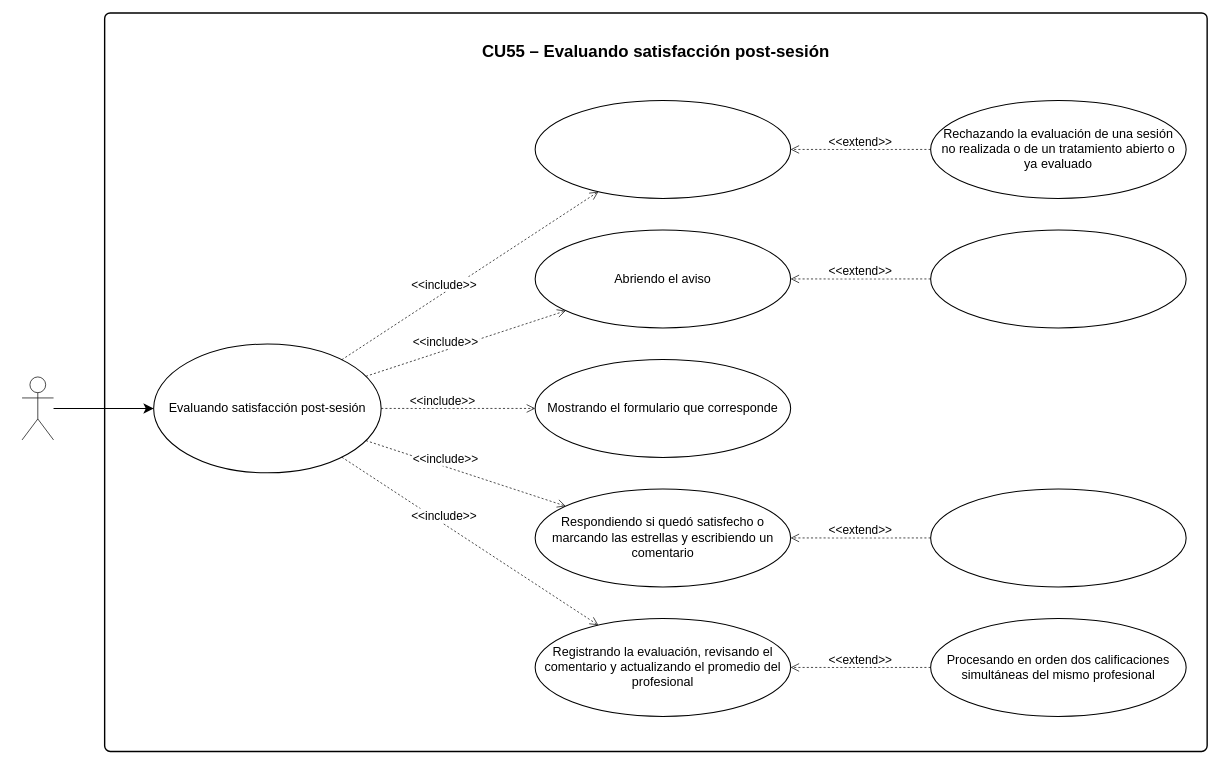
Image size: 1220x764. Some labels were removed from this diagram. Each missing label, with the centre of its shape:
Avisando al paciente que evalúe su sesión o su tratamiento: the point at 662,149
Manteniendo la evaluación pendiente en sus citas al descartar el aviso: the point at 1058,278
Paciente: the point at 37,408
Registrando solo la respuesta o la nota por comentario vacío o no permitido: the point at 1058,537
